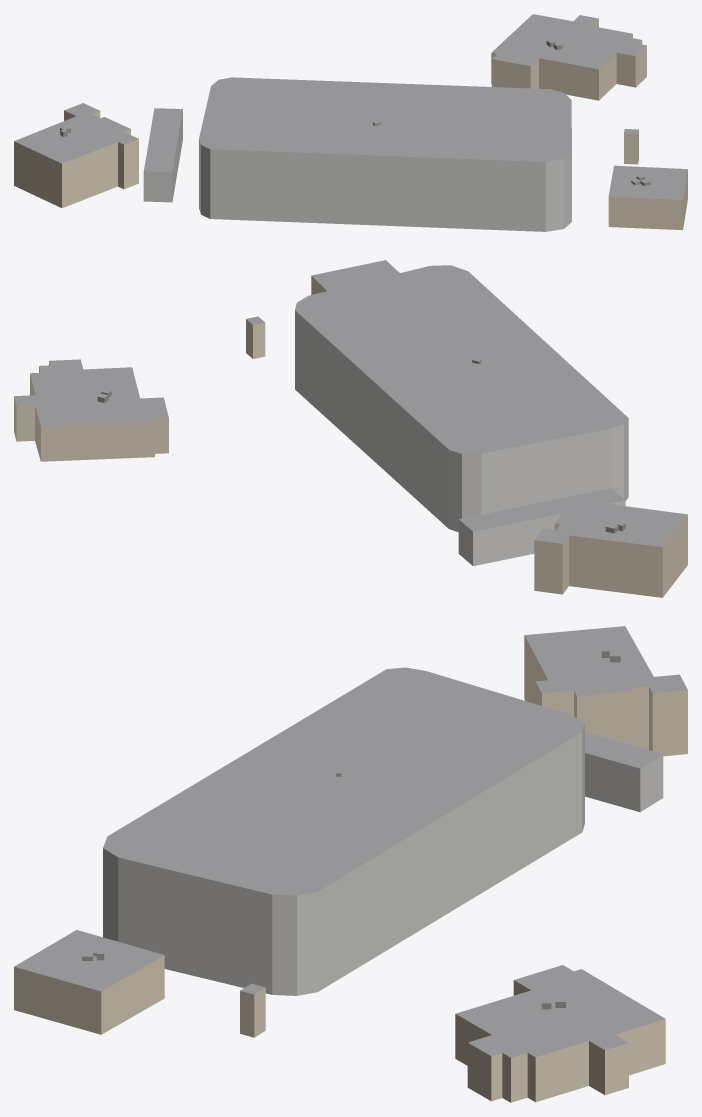
The model's file is building_-2_5.glb.
The picture shows the model from 3 angles, top to bottom: view 1: azimuth 30°, elevation 25°; view 2: azimuth 150°, elevation 25°; view 3: azimuth 270°, elevation 25°; orthographic projection. The views are drawn at different scales.
Parts seen in each view (by area): view 1: roof, concrete_light, sandstone; view 2: roof, concrete_light, sandstone; view 3: roof, concrete_light, sandstone.
Part boxes in pixels (box(x1,y1,x2,y2)): roof: box(14, 14, 687, 199); concrete_light: box(143, 110, 571, 231); sandstone: box(14, 19, 687, 230); roof: box(14, 260, 687, 546); concrete_light: box(295, 310, 628, 566); sandstone: box(14, 276, 687, 597); roof: box(14, 626, 687, 1057); concrete_light: box(103, 724, 663, 995); sandstone: box(14, 635, 687, 1102).
Size of the model in its own units: 221 by 25.82 by 152.
